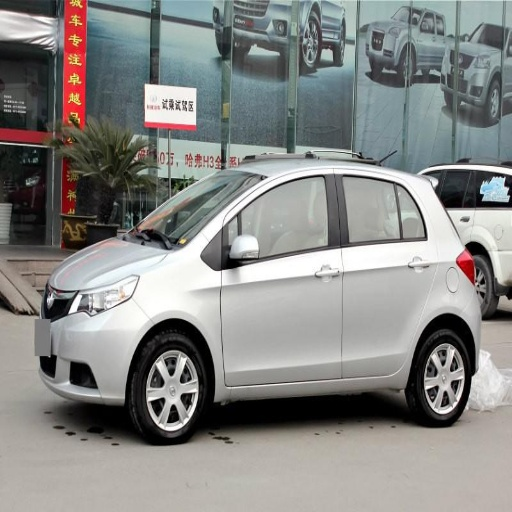back_left_door: (337, 169, 435, 377)
front_bumper: (35, 301, 146, 401)
front_glass: (122, 174, 246, 249)
front_left_door: (225, 171, 342, 386)
